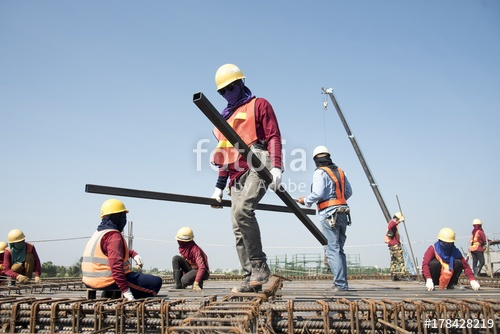white: (310, 146, 331, 165)
yellow: (213, 63, 246, 102), (100, 199, 129, 227), (436, 227, 455, 249), (7, 229, 25, 250), (175, 226, 193, 246), (471, 217, 482, 229), (393, 212, 402, 222)
